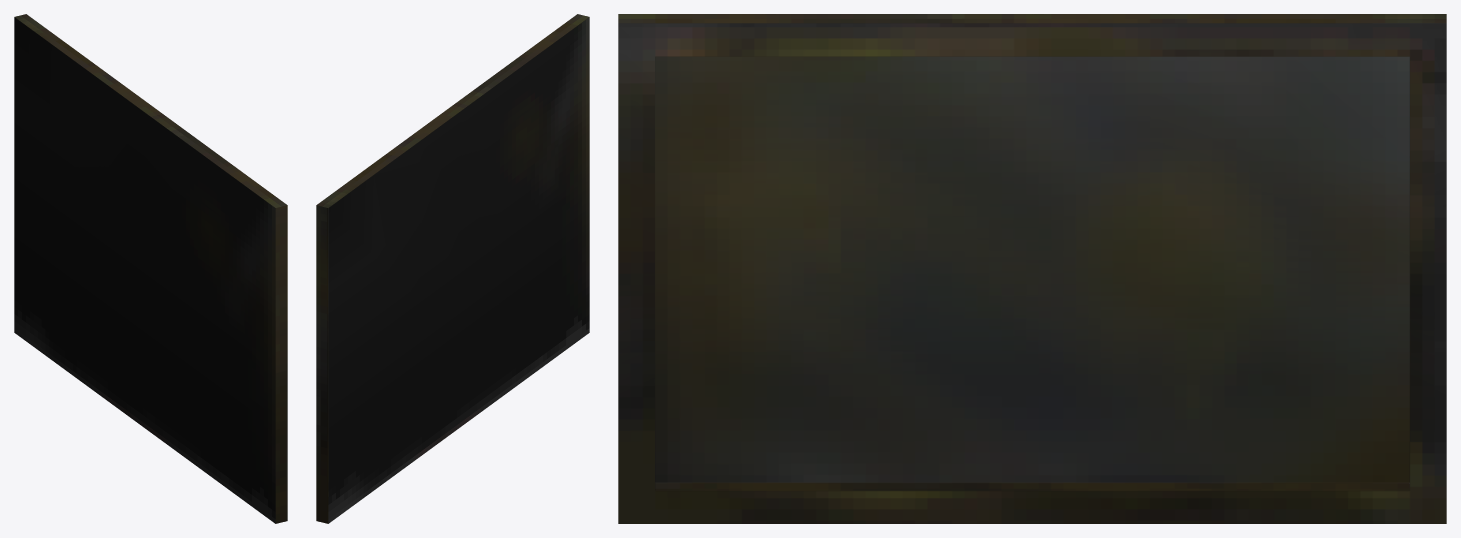
Rendered from mirror_grime.obj.
The picture shows the model from 3 angles, left to right: view 1: azimuth 30°, elevation 25°; view 2: azimuth 150°, elevation 25°; view 3: azimuth 270°, elevation 25°; orthographic projection. The views are drawn at different scales.
Visible parts, largest first — view 1: mirror_grime; view 2: mirror_grime; view 3: mirror_grime.
Part boxes in pixels (<box>): mirror_grime: <box>14,14,287,523</box>; mirror_grime: <box>316,14,589,523</box>; mirror_grime: <box>618,14,1446,523</box>.
Size of the model in its own units: 0.04 by 1 by 1.5.
